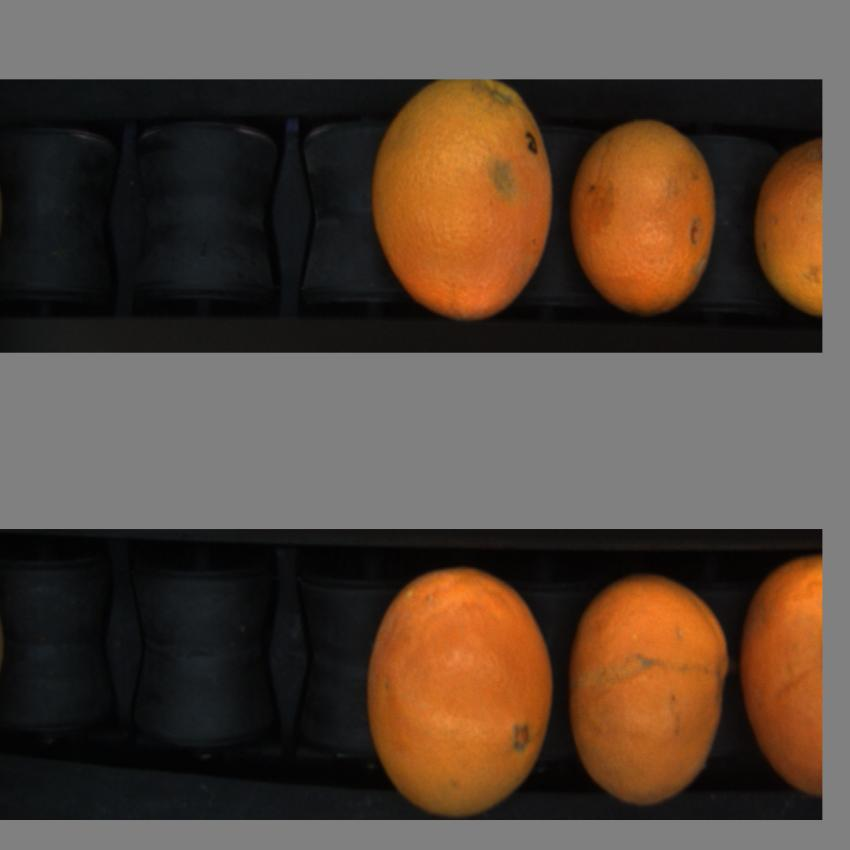Buen estado: (363, 560, 557, 818), (364, 82, 556, 332), (567, 567, 735, 810), (566, 111, 723, 321), (739, 551, 825, 801), (749, 121, 821, 325)
